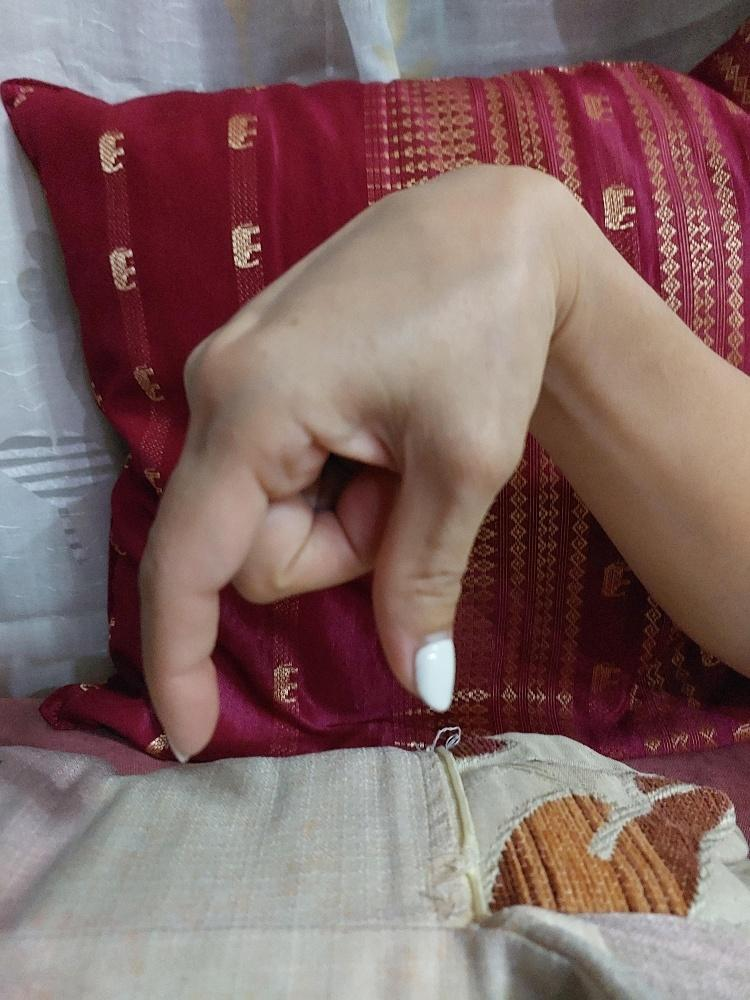q: (130, 156, 556, 764)
